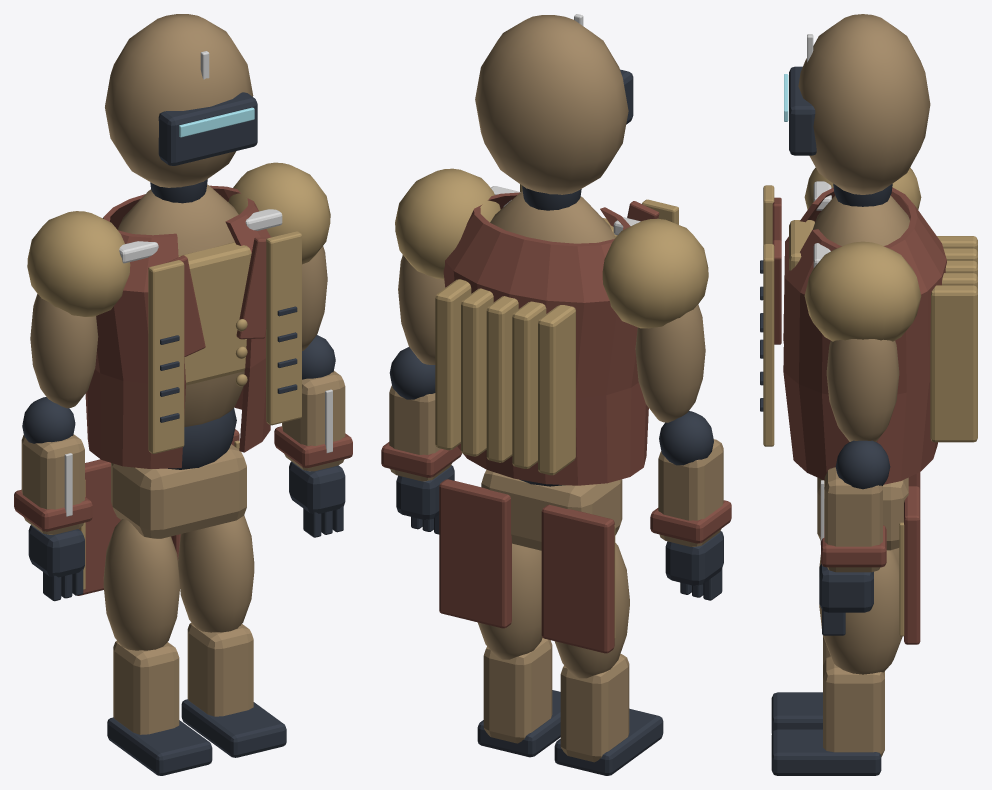
File: librarian.glb
3 renders of one model, left to right at view 1: azimuth 30°, elevation 25°; view 2: azimuth 150°, elevation 25°; view 3: azimuth 270°, elevation 25°, orthographic. The views are drawn at different scales.
Parts seen in each view (by area): view 1: Archivist vestments, Helmet, Pelvis, Shoulder R, Thigh R, Thigh L, Articulated thorax, Sternum shield, Archivist long stole, Archivist long stole.001, Upper arm R, Shin R (+22 smaller); view 2: Archivist vestments, Helmet, Archivist vestments articulated skirt R, Archivist vestments articulated skirt L, Shoulder R, Shoulder L, Archive folio 0, Upper arm R, Shin R, Shin L, Pelvis, Archive folio 2 (+18 smaller); view 3: Archivist vestments, Helmet, Shoulder L, Archive folio 4, Upper arm L, Shin L, Thigh L, Bracer L, Foot L, Articulated thorax, Archivist vestments articulated skirt L, Archivist long stole.001 (+18 smaller).
Boxes of the visible parts, x1,y1,x2,y2 form: Archivist vestments: (85,185,270,468); Helmet: (105,14,253,187); Pelvis: (111,444,246,538); Shoulder R: (27,211,130,316); Thigh R: (103,519,179,650); Thigh L: (178,515,254,632); Articulated thorax: (117,184,244,426); Sternum shield: (178,242,251,385); Archivist long stole: (148,260,184,453); Archivist long stole.001: (266,231,301,425); Upper arm R: (30,294,98,408); Shin R: (113,641,179,734); Archivist vestments: (443,192,648,485); Helmet: (475,15,628,194); Archivist vestments articulated skirt R: (541,504,614,653); Archivist vestments articulated skirt L: (439,479,511,628); Shoulder R: (602,218,708,328); Shoulder L: (395,168,500,279); Archive folio 0: (538,305,575,475); Upper arm R: (635,304,705,422); Shin R: (560,654,629,762); Shin L: (483,638,552,743); Pelvis: (481,469,622,550); Archive folio 2: (486,296,518,462); Archivist vestments: (783,187,946,484); Helmet: (798,14,930,194); Shoulder L: (804,241,921,341); Archive folio 4: (930,285,977,442); Upper arm L: (826,339,899,441); Shin L: (823,656,884,756); Thigh L: (819,550,902,674); Bracer L: (824,467,882,572); Foot L: (771,729,881,775); Articulated thorax: (812,195,909,245); Archivist vestments articulated skirt L: (904,486,920,644); Archivist long stole.001: (763,244,774,446).
Size of the model in its own units: 1 by 2.2 by 0.597.
